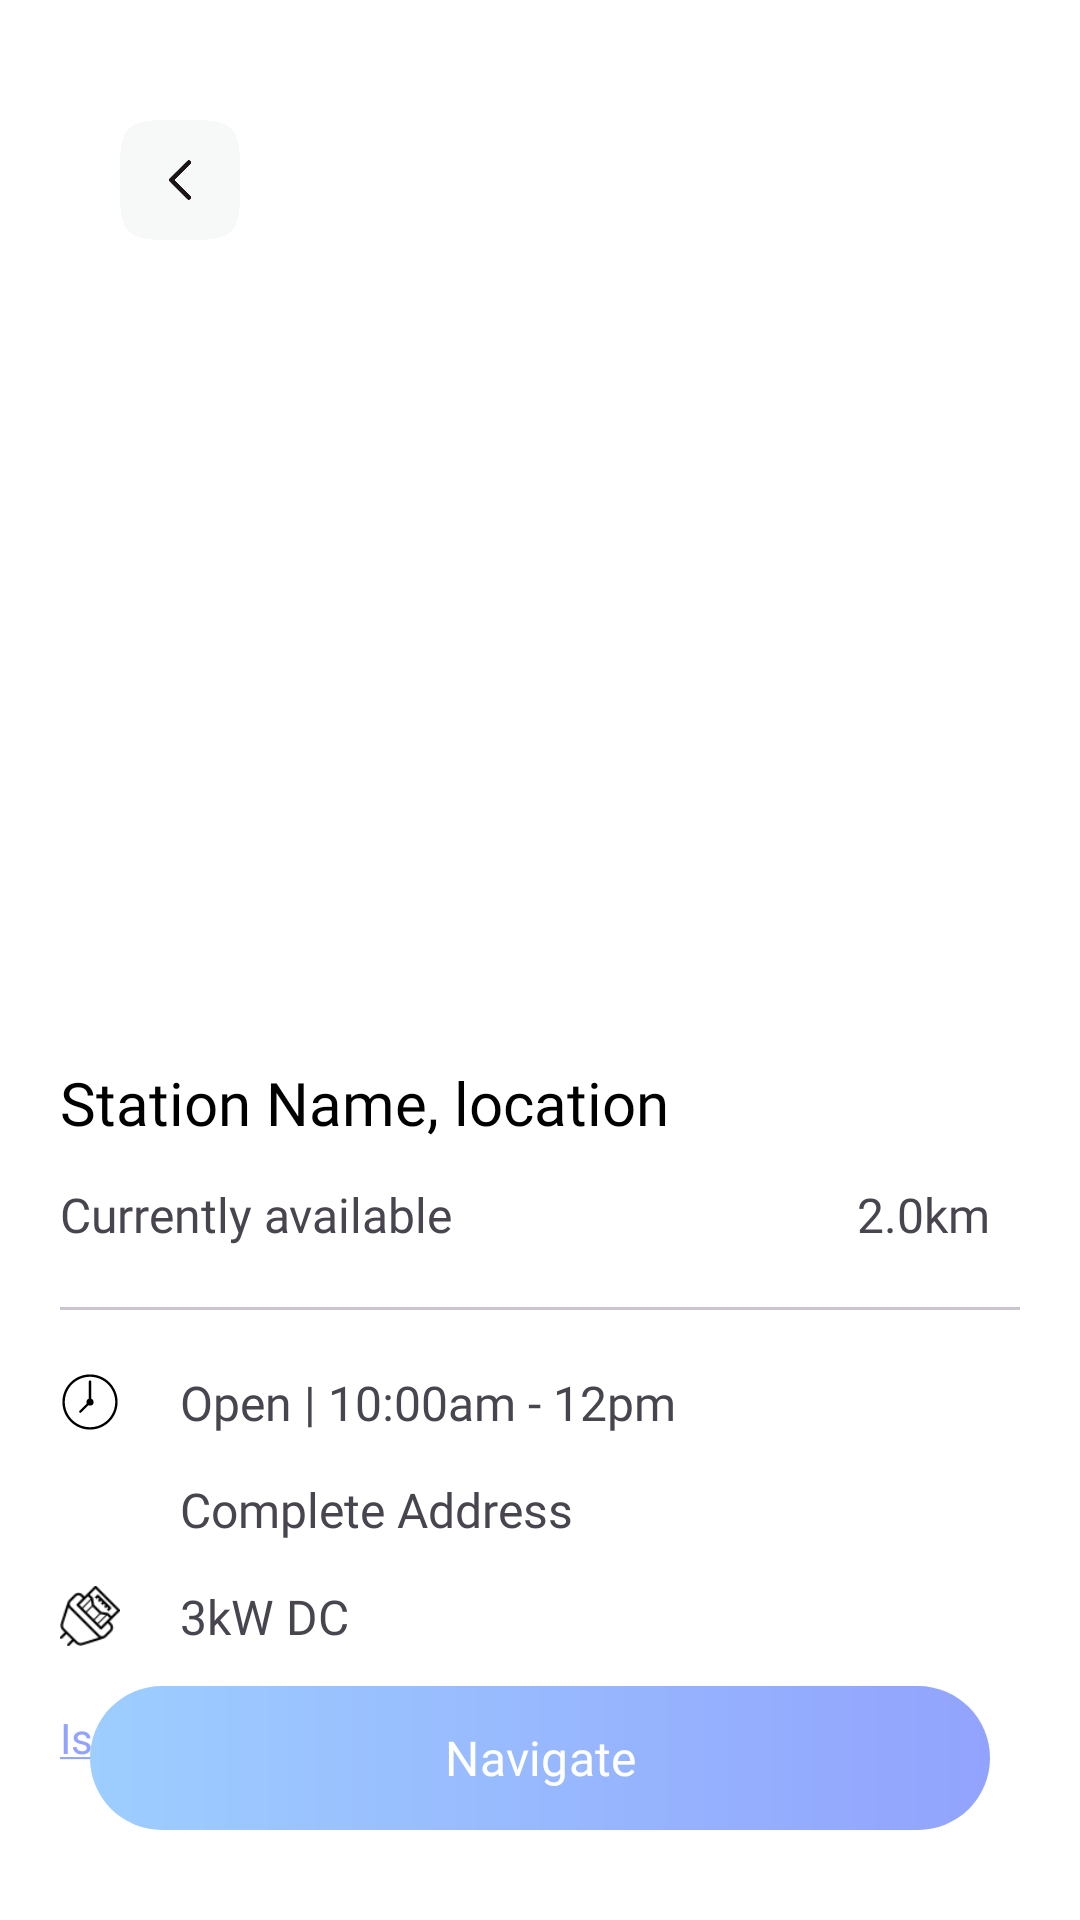

Point at icon controls on the screen. Image size 1080×1920, points as (x,y).
back: (180,180)
charger: (90,1616)
clock: (90,1402)
